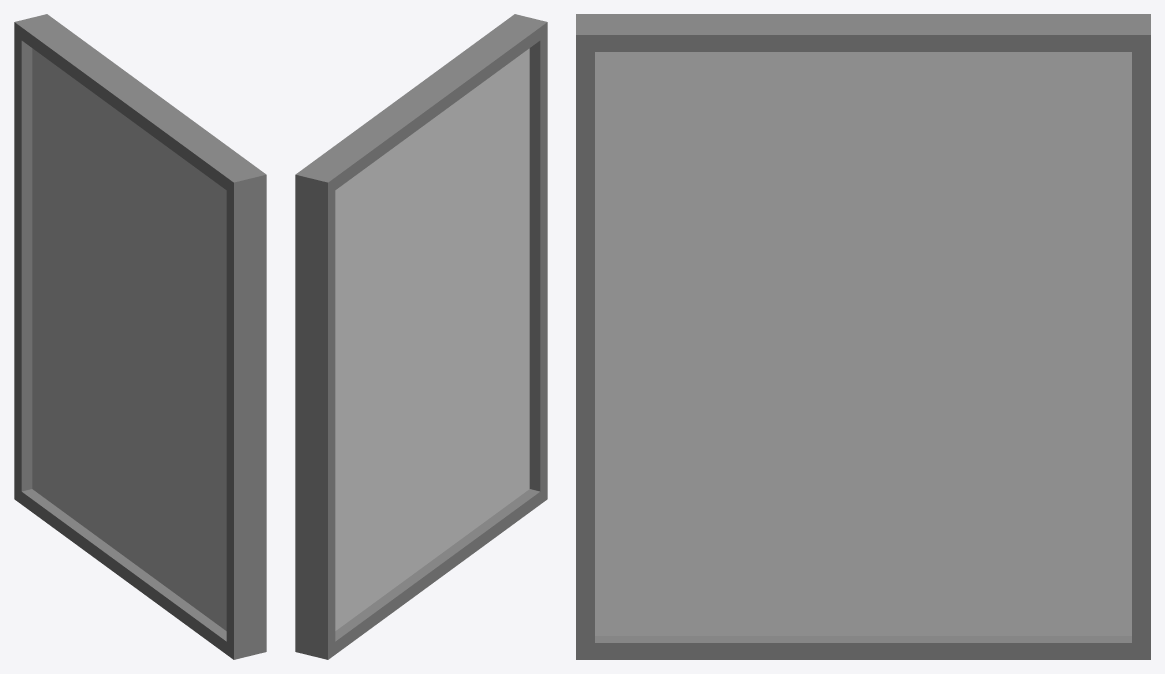
Rendered from GlassDoor.fbx.
3 renders of one model, left to right at view 1: azimuth 30°, elevation 25°; view 2: azimuth 150°, elevation 25°; view 3: azimuth 270°, elevation 25°, orthographic. The views are drawn at different scales.
Parts seen in each view (by area): view 1: Glass, Door; view 2: Glass, Door; view 3: Glass, Door.
Boxes of the visible parts, left/top/right/bottom form: Glass: left=32, top=48, right=226, bottom=630; Door: left=14, top=14, right=266, bottom=659; Glass: left=335, top=48, right=529, bottom=630; Door: left=295, top=14, right=547, bottom=659; Glass: left=595, top=52, right=1131, bottom=635; Door: left=576, top=14, right=1150, bottom=659.
Size of the model in its own units: 43.11 by 600 by 500.
